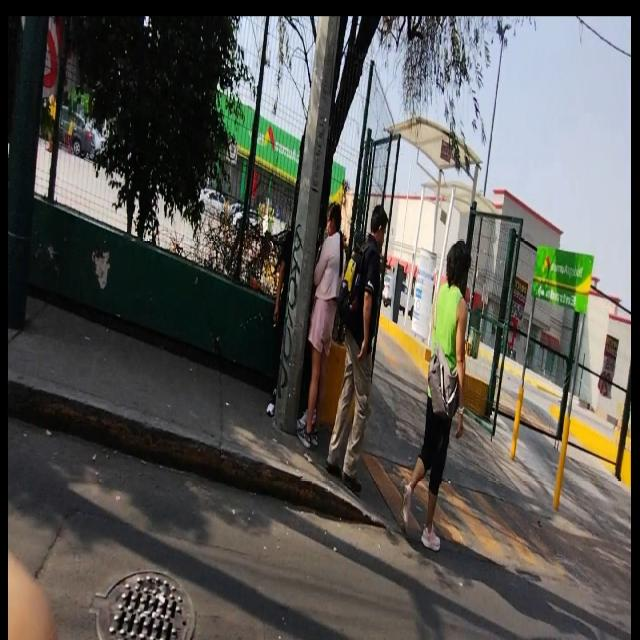adult: (402, 237, 469, 546), (326, 203, 388, 490), (299, 200, 345, 449)
